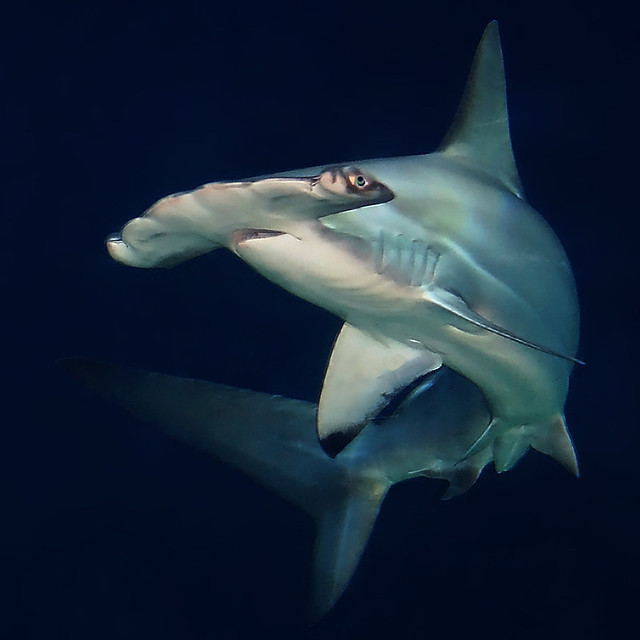hammerhead: (87, 166, 473, 289)
